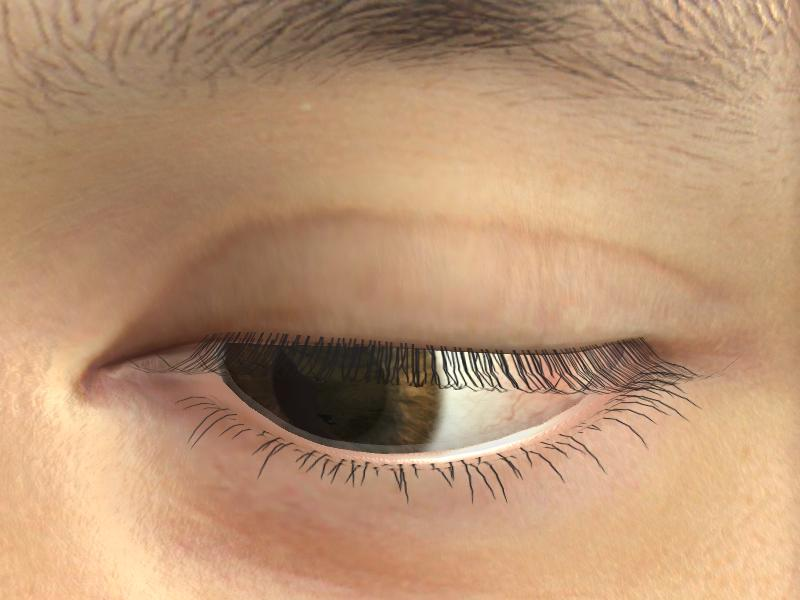eye: (221, 336, 439, 461)
